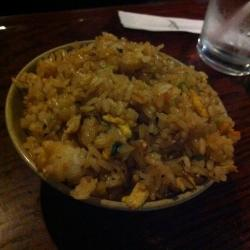rice: (35, 51, 233, 195)
